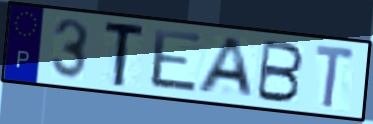3: (51, 16, 91, 82)
A: (193, 36, 257, 100)
B: (254, 38, 307, 105)
E: (149, 26, 204, 96)
T: (312, 41, 358, 111), (102, 21, 148, 89)
